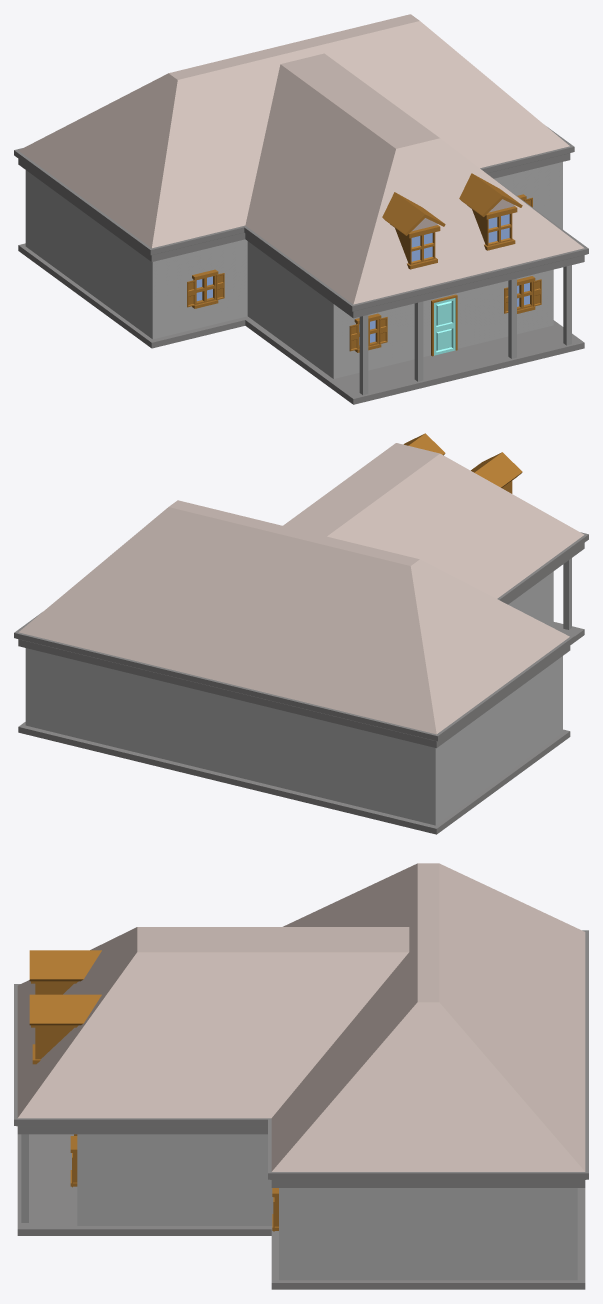
Rendered from House_03.fbx.
The picture shows the model from 3 angles, top to bottom: view 1: azimuth 30°, elevation 25°; view 2: azimuth 150°, elevation 25°; view 3: azimuth 270°, elevation 25°; orthographic projection. The views are drawn at different scales.
Parts seen in each view (by area): view 1: mesh_house_3; view 2: mesh_house_3; view 3: mesh_house_3.
Boxes of the visible parts, bbox=[...] form: mesh_house_3: bbox=[14, 14, 588, 404]; mesh_house_3: bbox=[14, 433, 588, 834]; mesh_house_3: bbox=[14, 863, 588, 1289].
Bounding box in the file's own units: 7.7 × 3.5 × 7.7.
